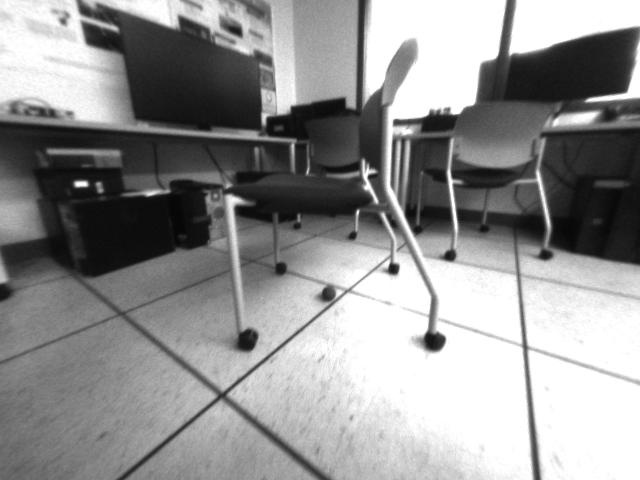dogtoy: (319, 280, 344, 303)
